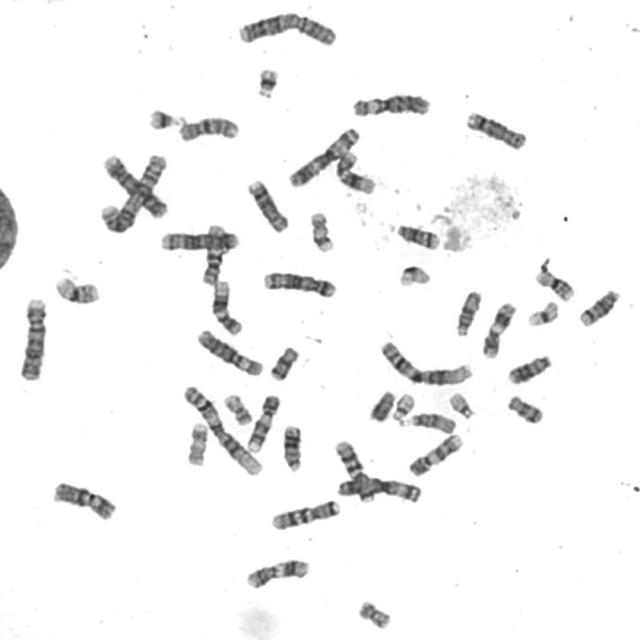A1: (178, 381, 264, 477), (376, 335, 476, 387)
A2: (96, 148, 169, 234), (233, 7, 340, 47)
A3: (284, 121, 364, 188), (334, 472, 424, 505)
B4: (98, 150, 170, 220), (15, 292, 50, 383)
B5: (258, 266, 338, 299), (156, 227, 242, 252)
C10: (174, 111, 241, 143), (198, 220, 228, 285)
C11: (478, 297, 519, 360), (242, 554, 312, 590)
C12: (331, 146, 378, 195), (208, 275, 245, 336)
C6: (193, 324, 265, 378), (348, 89, 432, 118)
C7: (331, 435, 377, 503), (267, 494, 343, 532)
C8: (462, 106, 530, 152), (243, 175, 291, 234)
C9: (405, 429, 465, 478), (243, 390, 283, 454)
D13: (504, 348, 555, 386), (279, 420, 305, 473)
D14: (576, 284, 622, 328), (392, 218, 443, 251)
D15: (452, 286, 484, 337), (402, 408, 458, 434)
E16: (49, 271, 102, 306), (530, 266, 578, 302)
E17: (306, 206, 336, 254), (183, 417, 210, 468)
E18: (503, 390, 547, 425), (266, 341, 302, 382)
F19: (524, 296, 562, 327), (396, 260, 434, 288)
F20: (353, 595, 394, 630), (220, 389, 254, 426)
G21: (144, 103, 183, 131), (252, 63, 281, 100)
G22: (388, 388, 417, 424), (446, 388, 478, 420)
X: (48, 476, 118, 522)
Y: (366, 385, 398, 423)
